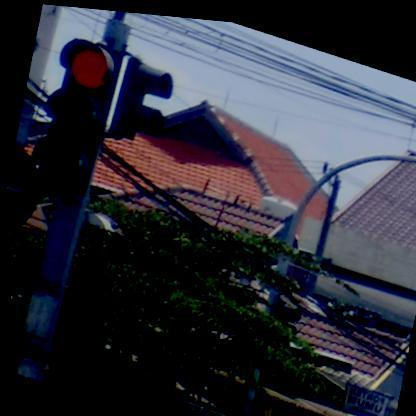red: (23, 28, 126, 200)
